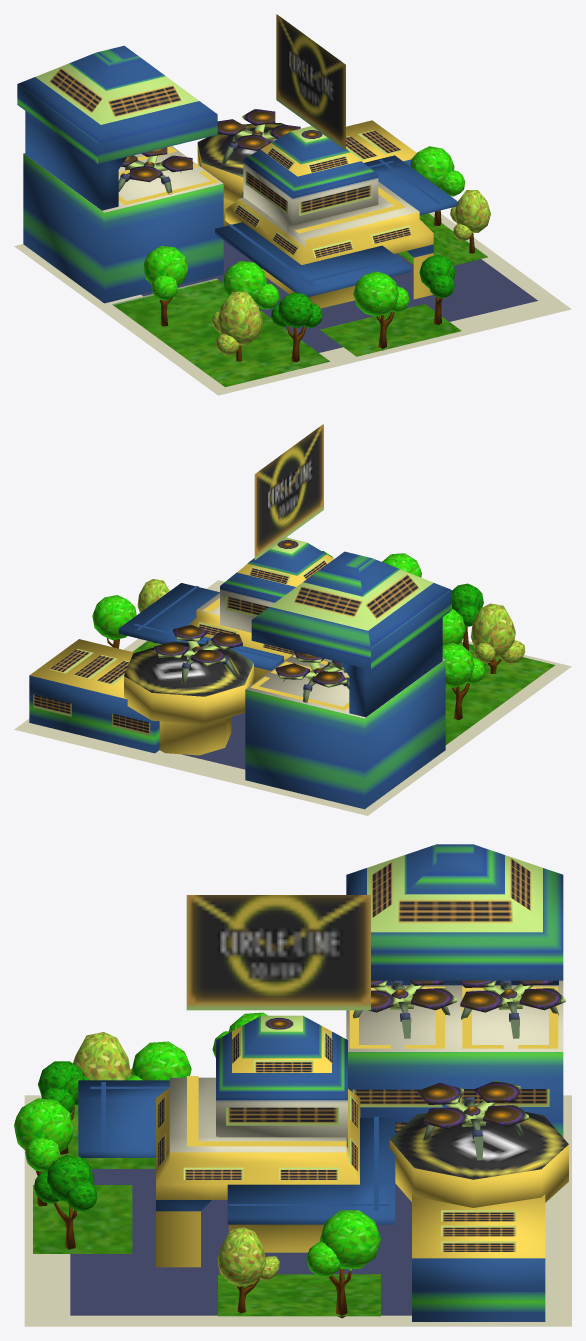
File: courier_LV2.fbx
3 renders of one model, top to bottom at view 1: azimuth 30°, elevation 25°; view 2: azimuth 150°, elevation 25°; view 3: azimuth 270°, elevation 25°, orthographic. The views are drawn at different scales.
Visible parts, largest first — view 1: courier level 2; view 2: courier level 2; view 3: courier level 2.
Boxes of the visible parts, x1,y1,x2,y2 form: courier level 2: (14, 14, 571, 395); courier level 2: (14, 424, 571, 815); courier level 2: (14, 844, 571, 1326).
Bounding box in the file's own units: 101 × 68.51 × 102.
